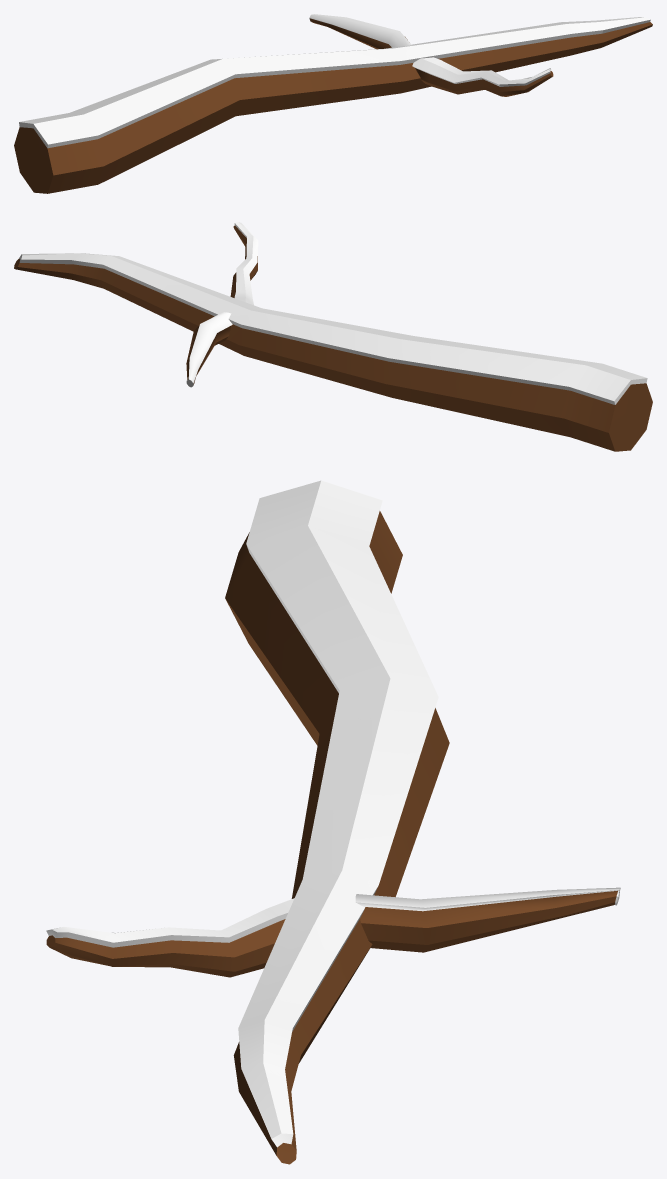
Rendered from DEAD TREE 1.fbx.
3 renders of one model, top to bottom at view 1: azimuth 30°, elevation 25°; view 2: azimuth 150°, elevation 25°; view 3: azimuth 270°, elevation 25°, orthographic. The views are drawn at different scales.
Parts seen in each view (by area): view 1: DEAD TREE 1; view 2: DEAD TREE 1; view 3: DEAD TREE 1.
Part boxes in pixels (x1,y1,x2,y2): DEAD TREE 1: [14, 14, 652, 193]; DEAD TREE 1: [14, 222, 652, 451]; DEAD TREE 1: [46, 480, 620, 1164].
Size of the model in its own units: 374 by 41.36 by 152.
